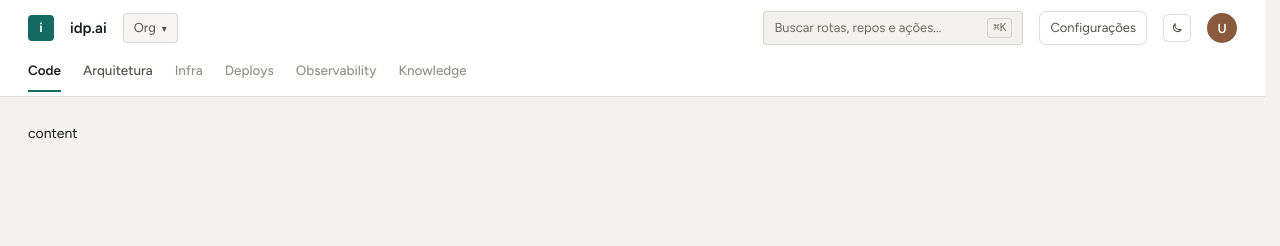
it: AppShell header › opens the user menu with the account actions
Click the button named "Menu do usuário": click(1222, 28) [1207,13,1237,43]
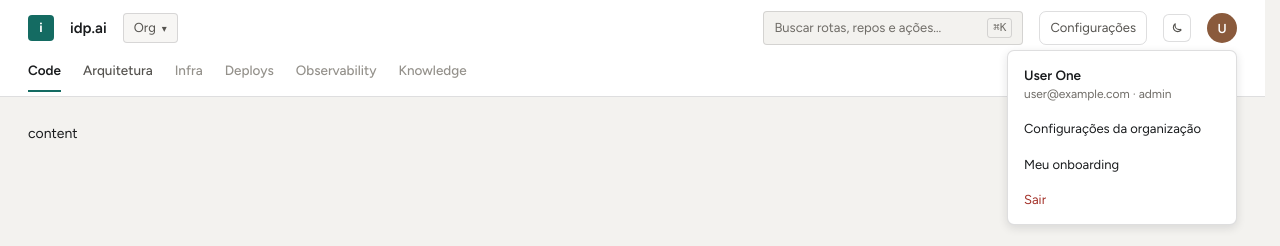
Result: the text "user@example.com · admin" is shown at [1024,87,1172,101]
Result: the menu item "Sair" is shown at [1014,182,1230,218]
